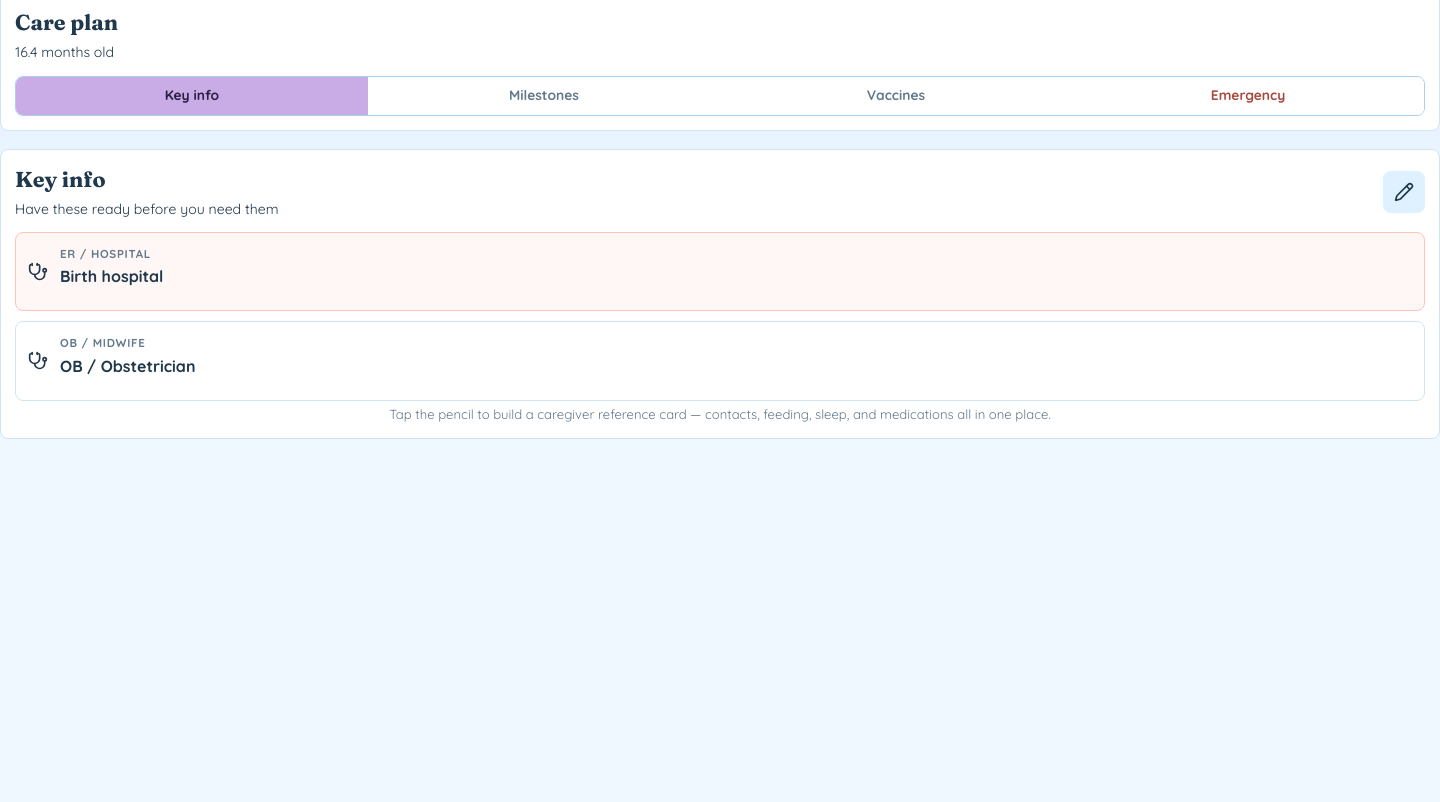
Scenario: Care tabs › switches to child technique after the first birthday
Click the tab "Emergency". click: (1248, 96)
box: [1072, 76, 1424, 114]
(page scrolled)
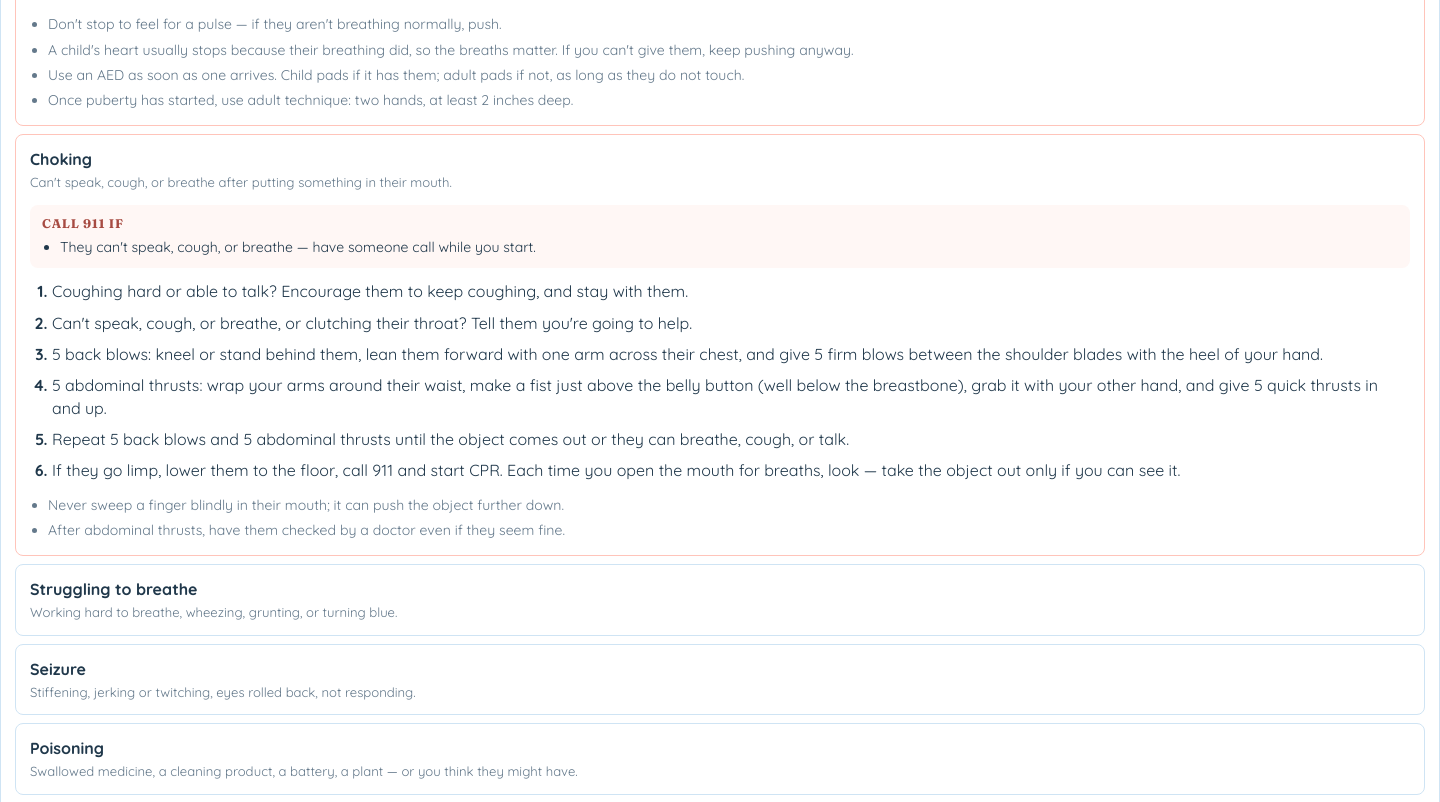
expect the list item "5 abdominal thrusts" is shown: met, box [52, 375, 1378, 418]
